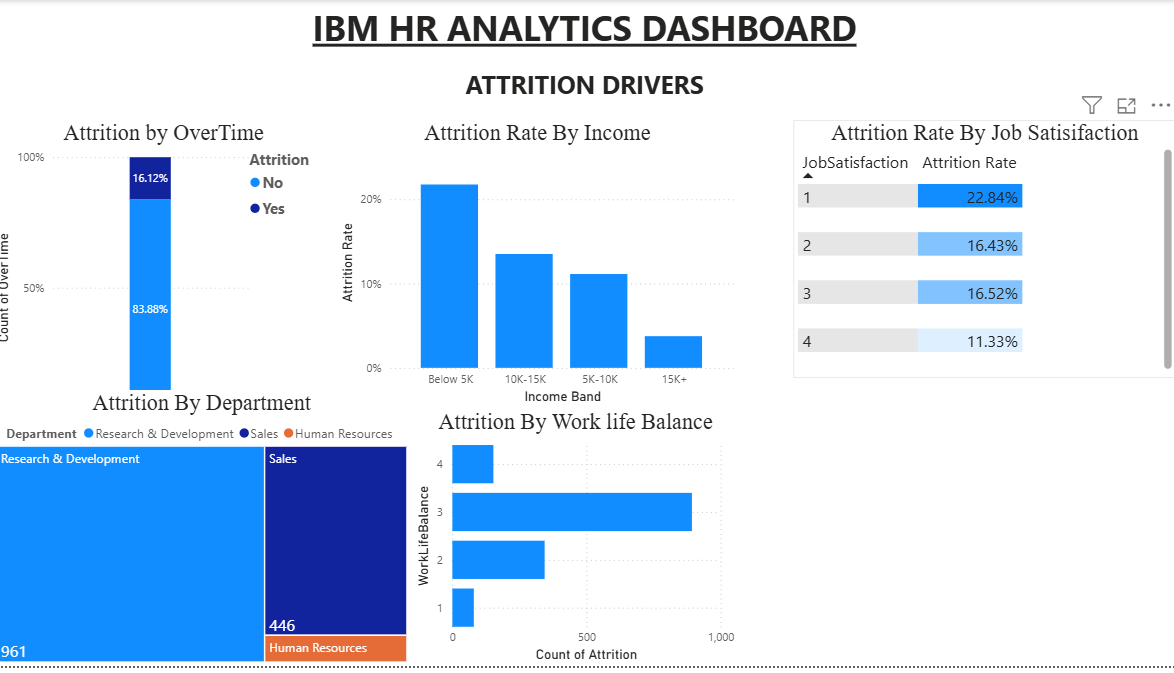

This screenshot's page, from the dashboard's own definition file:
{"tool":"powerbi","page":{"name":"Page 2","canvas":[1280,720],"ordinal":1},"visuals":[{"type":"textbox","box":[0,0,1280.3,67.5],"z":0},{"type":"textbox","box":[0,67.5,1280.3,61.7],"z":1000},{"type":"hundredPercentStackedColumnChart","title":"Attrition by OverTime","fields":{"Series":["Employee.Attrition"],"Y":["CountNonNull(Employee.OverTime)"]},"box":[0,129.9,371,336.3],"z":2000},{"type":"clusteredColumnChart","title":"Attrition Rate By Income","fields":{"Category":["Employee.Income Band"],"Y":["Employee.Attrition Rate"]},"box":[371,129.9,435.9,311.8],"z":3000},{"type":"treemap","title":"Attrition By Department","fields":{"Group":["Employee.Department"],"Values":["CountNonNull(Employee.Attrition)"]},"box":[0,421.5,453.2,298.8],"z":4000},{"type":"pivotTable","title":"Attrition Rate By Job Satisifaction","fields":{"Rows":["Employee.JobSatisfaction"],"Values":["Employee.Attrition Rate"]},"box":[865.7,143.2,414.6,278.2],"z":5000},{"type":"clusteredBarChart","title":"Attrition By  Work life Balance","fields":{"Category":["Employee.WorkLifeBalance"],"Y":["Employee.Attrition Rate"]},"box":[453.2,441.7,353.6,278.6],"z":6000}]}

Visuals, with their boxes in screenshot pixels (x1, y1, x2, y2), scaled from the page's 1280x720 canvas onto the 1174x673 screenshot:
textbox: (0,0,1173,63)
textbox: (0,63,1173,121)
"Attrition by OverTime" hundredPercentStackedColumnChart: (0,121,340,436)
"Attrition Rate By Income" clusteredColumnChart: (340,121,740,413)
"Attrition By Department" treemap: (0,394,416,672)
"Attrition Rate By Job Satisifaction" pivotTable: (794,134,1173,394)
"Attrition By  Work life Balance" clusteredBarChart: (416,413,740,672)
